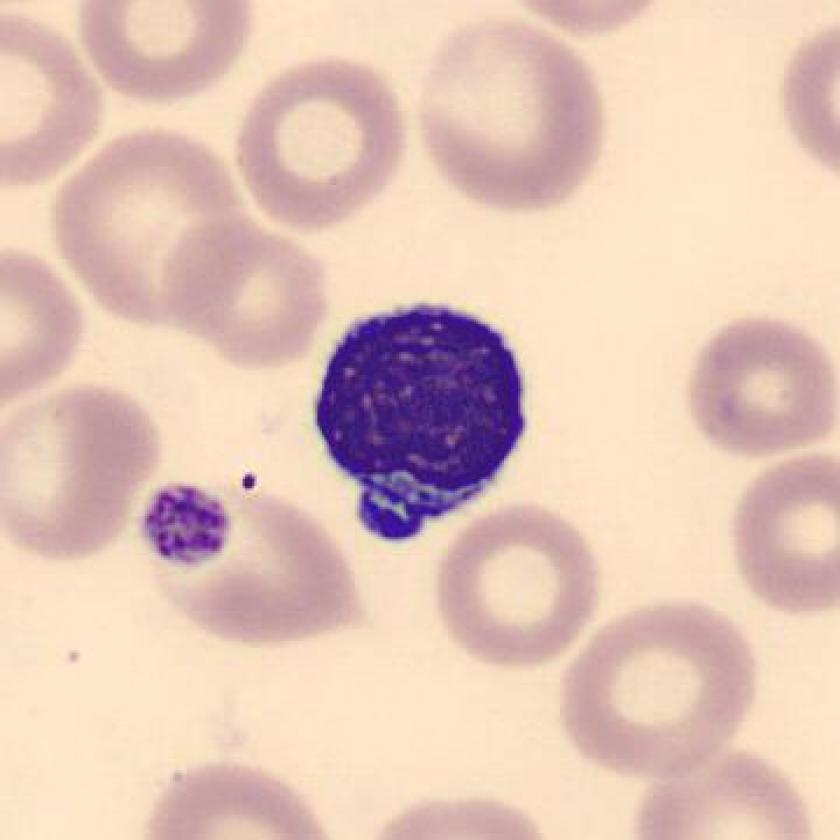lymphocyte: (300, 288, 547, 552)
